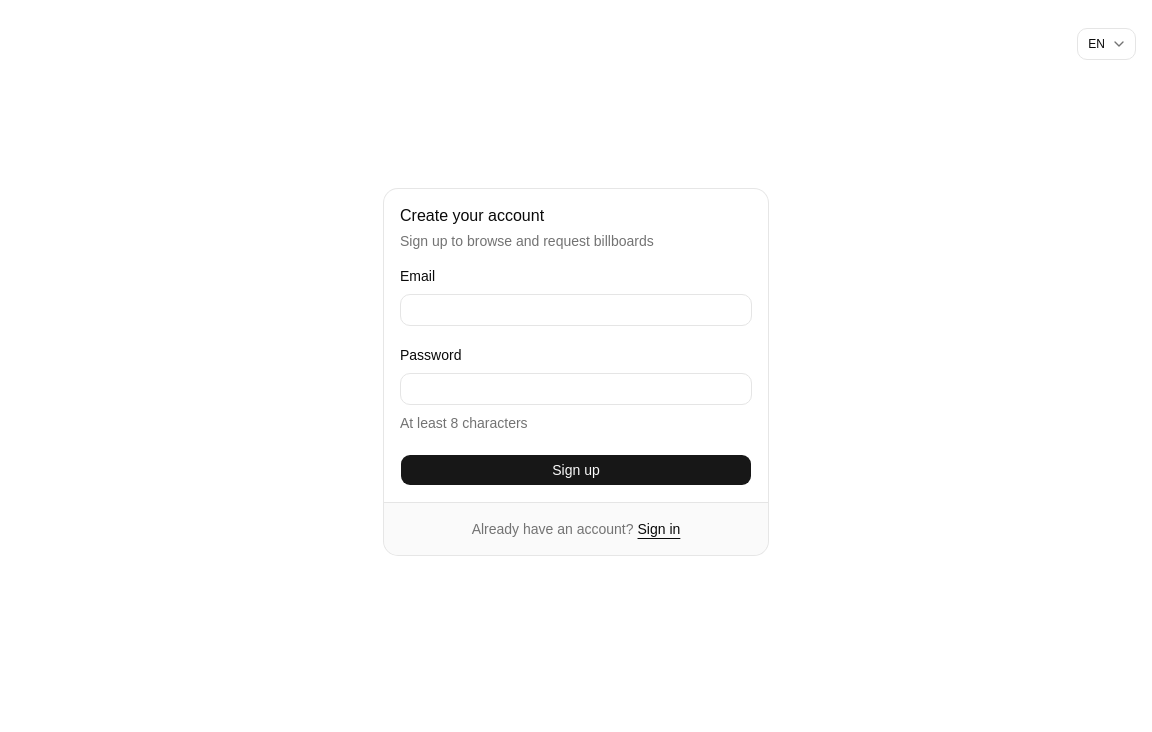
Scenario: SignUpPage › submits email and password with credentials and goes home on success
Type "user@example.com" into the field labelled "Email" at point(576, 310), box x1=400 y1=294 x2=752 y2=326
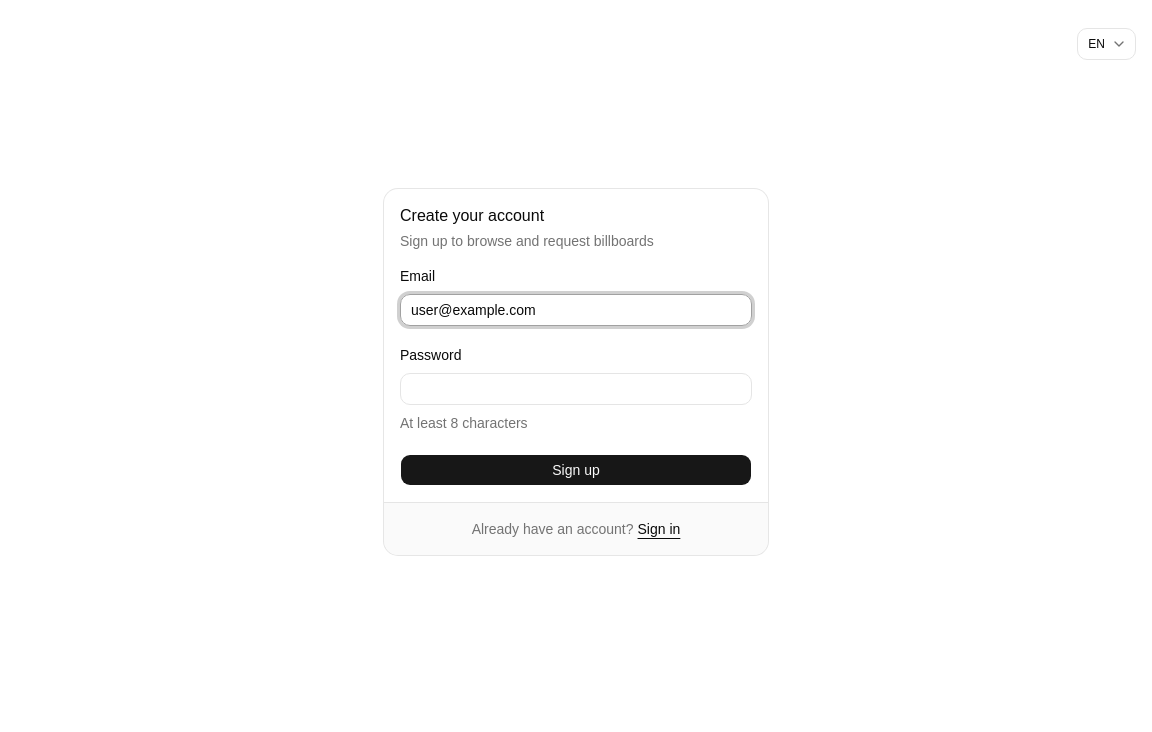
Type "correct-horse" into the password field labelled "Password" at point(576, 389), box x1=400 y1=373 x2=752 y2=405
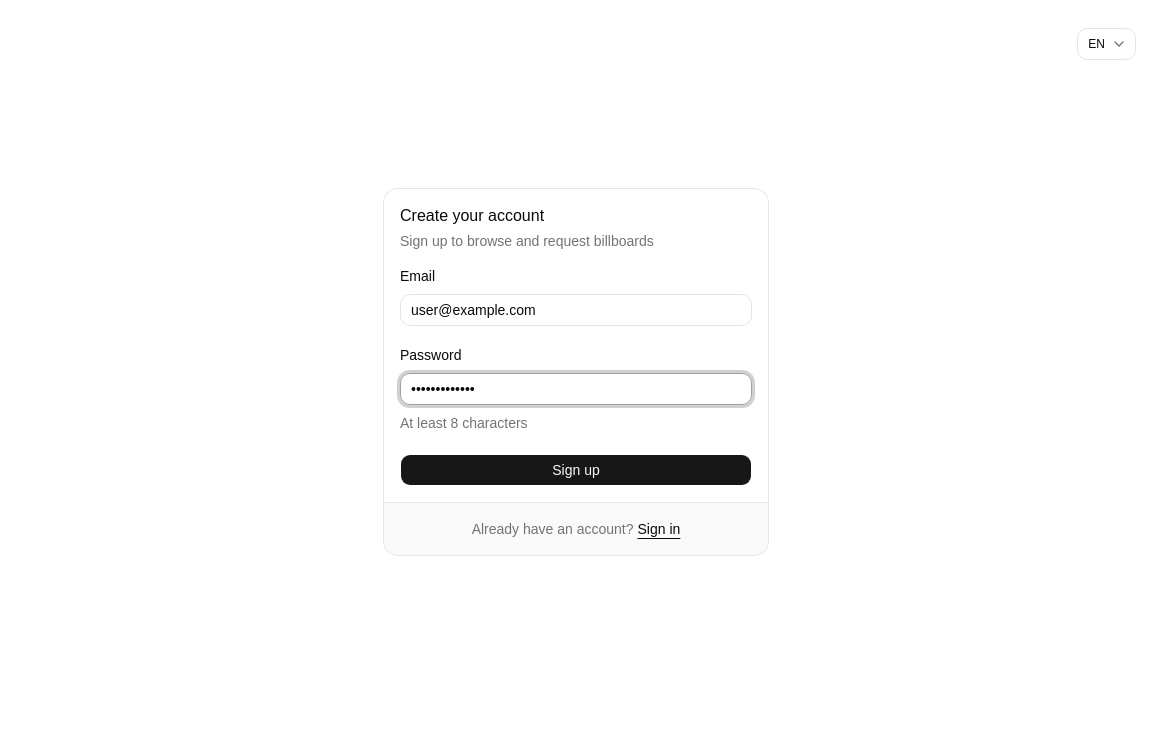
Click the button "Sign up" at point(576, 470), box x1=400 y1=454 x2=752 y2=486
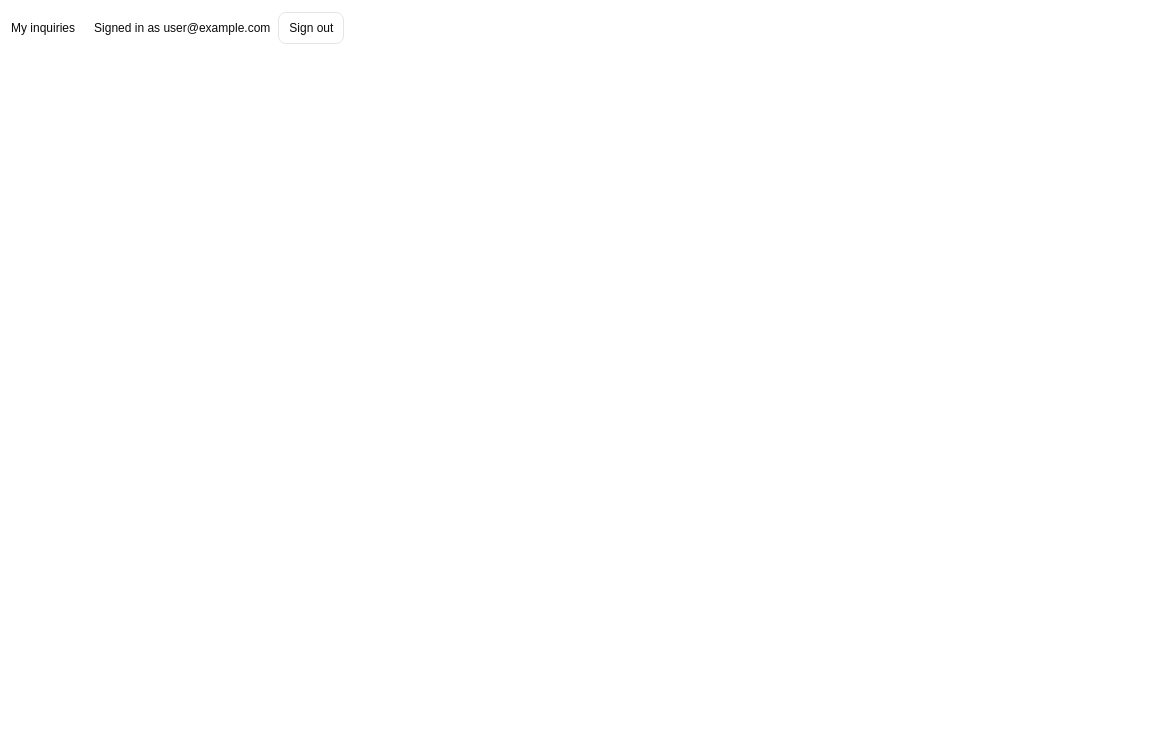
Expected: the text "Signed in as" is shown, x1=94 y1=21 x2=160 y2=35
